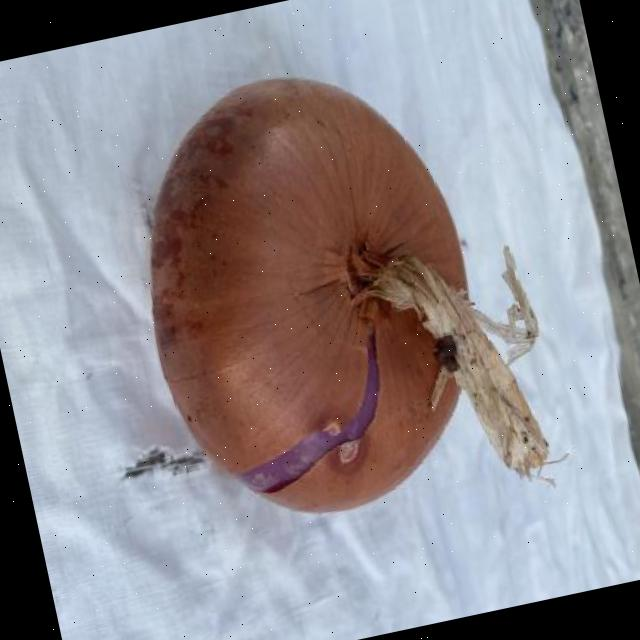Onion: (150, 78, 547, 513)
